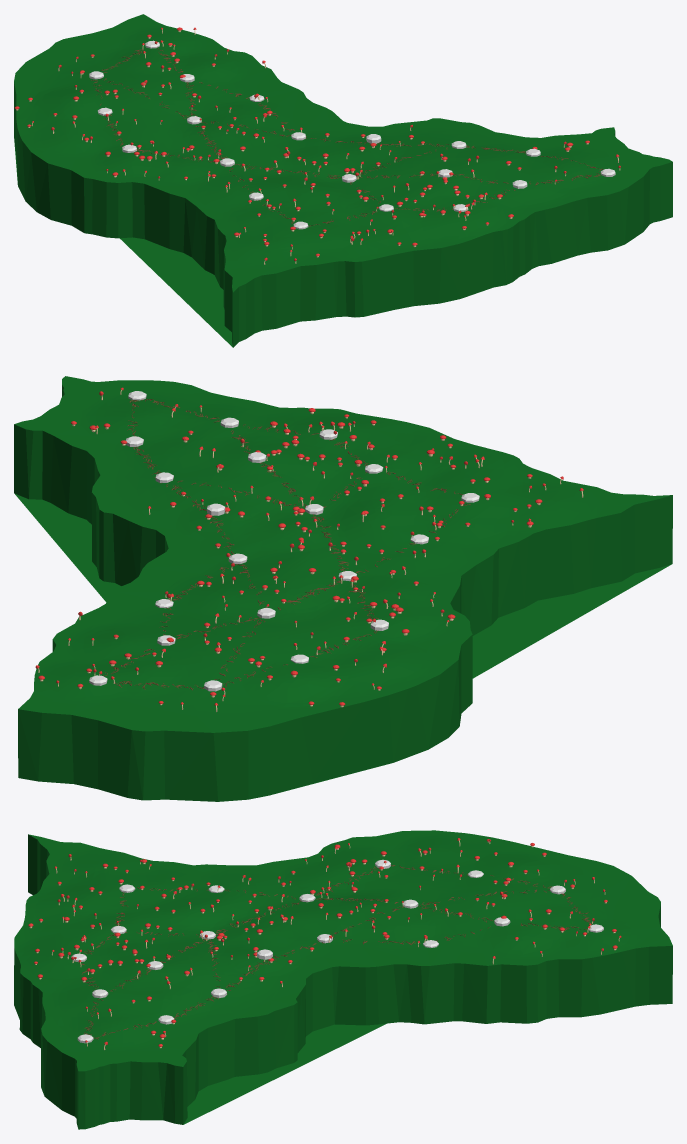
Rendered from ForestLevelPart1.fbx.
3 renders of one model, top to bottom at view 1: azimuth 30°, elevation 25°; view 2: azimuth 150°, elevation 25°; view 3: azimuth 270°, elevation 25°, orthographic. The views are drawn at different scales.
Visible parts, largest first — view 1: Elf_Forest_Part1_Level; view 2: Elf_Forest_Part1_Level; view 3: Elf_Forest_Part1_Level.
Part boxes in pixels (<box>): Elf_Forest_Part1_Level: <box>14,14,672,347</box>; Elf_Forest_Part1_Level: <box>14,376,672,801</box>; Elf_Forest_Part1_Level: <box>14,830,672,1129</box>.
Bounding box in the file's own units: 1783 × 2058 × 247.
